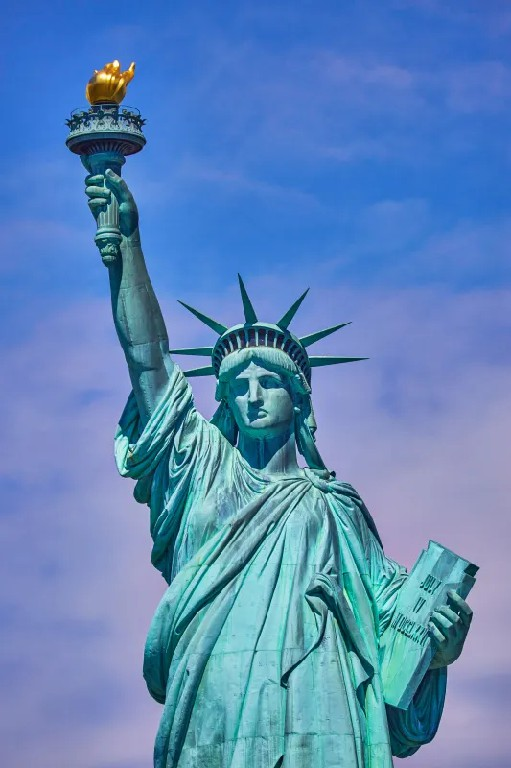SL: (66, 59, 480, 768)
